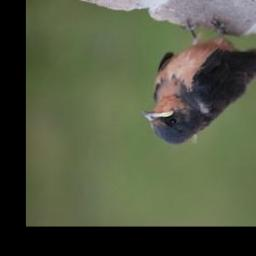Swallow: (142, 16, 256, 147)
